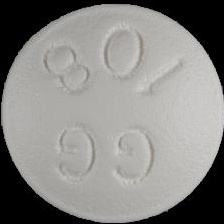0615-4511: (0, 0, 224, 224)
